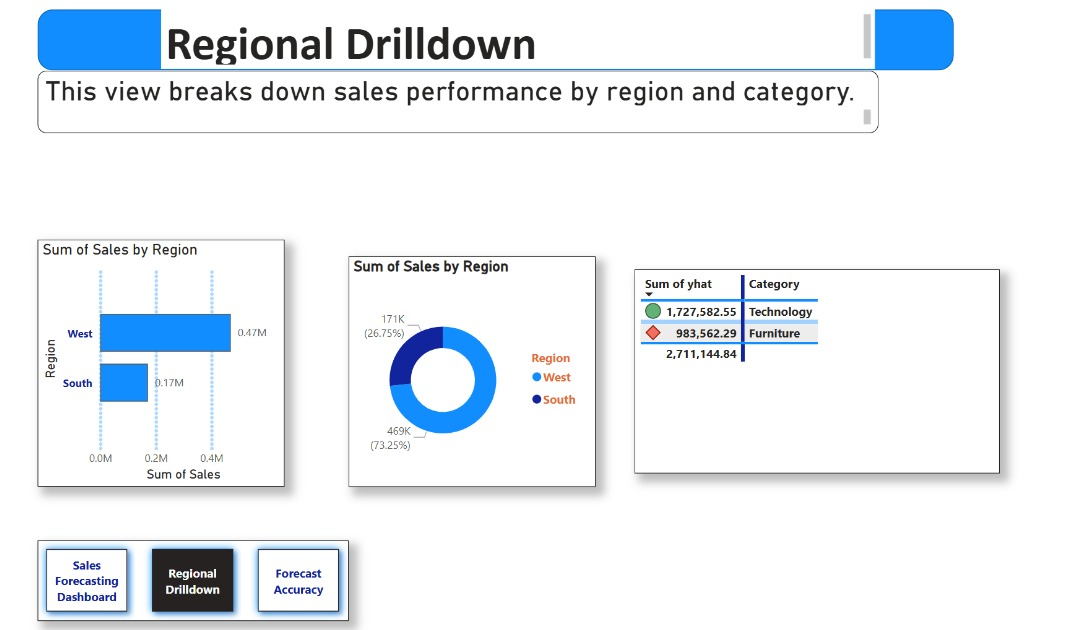

The dashboard page shown, as its layout file describes it:
{"tool":"powerbi","page":{"name":"Regional Drilldown","canvas":[1280,720],"ordinal":1},"visuals":[{"type":"shape","box":[26.1,0,1038.8,69],"z":0},{"type":"clusteredBarChart","fields":{"Category":["region_summary.Region"],"Y":["Sum(region_summary.Sales)"]},"box":[26.1,261.1,279.7,279.7],"z":1000},{"type":"tableEx","fields":{"Values":["Sum(category_forecasts.yhat)","category_forecasts.Category"]},"box":[703.1,294.7,414,231.3],"z":2000},{"type":"donutChart","fields":{"Category":["region_summary.Region"],"Y":["Sum(region_summary.Sales)"]},"box":[378.6,279.7,279.7,261.1],"z":3000},{"type":"textbox","box":[166,0,809.4,67.1],"z":4000},{"type":"pageNavigator","box":[26.1,602.4,352.5,91.4],"z":5000},{"type":"textbox","title":"This view breaks down sales performance by region and category.","box":[26.1,69,953,70.9],"z":5002}]}

Visuals, with their boxes on the page's 1280x720 design canvas (x1, y1, x2, y2). These are canvas units, not pixel positions in the 1080x630 screenshot, which may show the page scaled, cropped or inside an application window:
shape: 26/0/1065/69
clusteredBarChart - region_summary.Region x Sum(region_summary.Sales): 26/261/306/541
tableEx - Sum(category_forecasts.yhat) x category_forecasts.Category: 703/295/1117/526
donutChart - region_summary.Region x Sum(region_summary.Sales): 379/280/658/541
textbox: 166/0/975/67
pageNavigator: 26/602/379/694
"This view breaks down sales performance by region and category." textbox: 26/69/979/140
